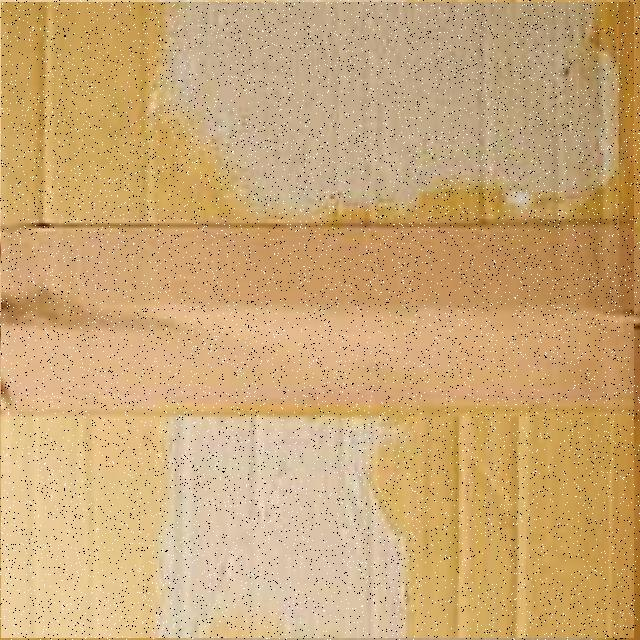defect: (1, 2, 634, 638)
